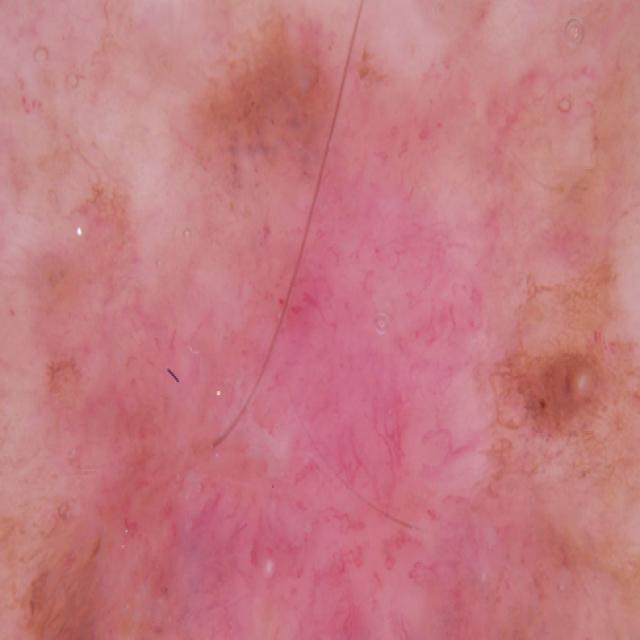Carcinoma: (34, 104, 611, 640)
